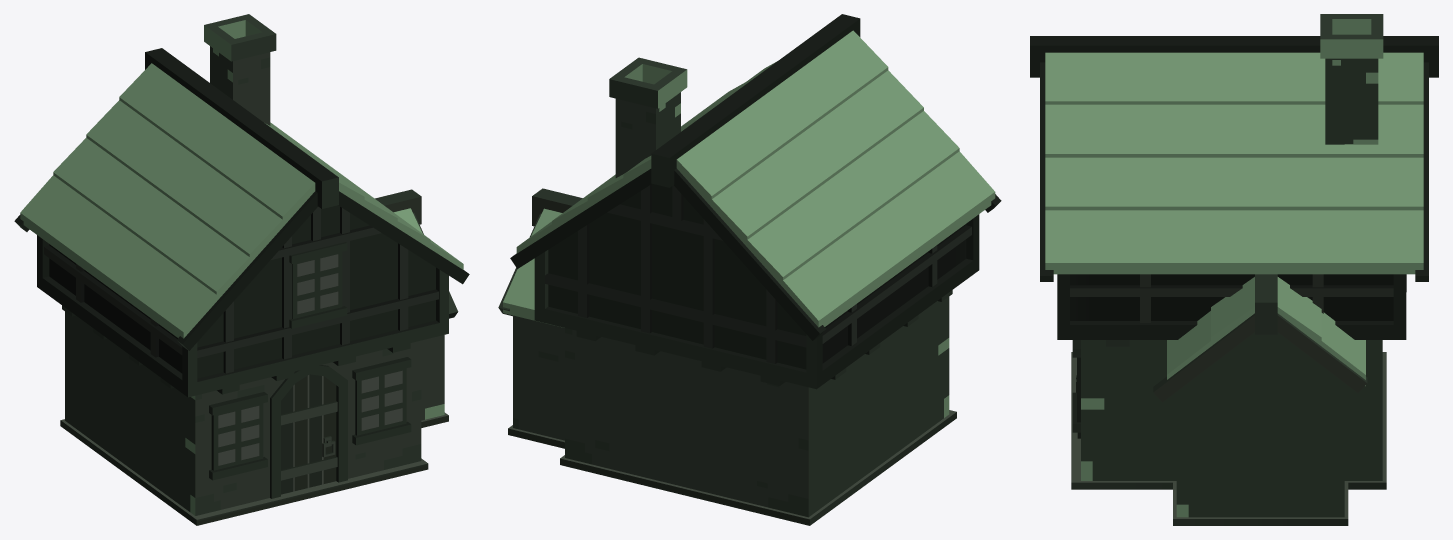
File: SF_Bld_House_Red_01.glb
3 views of the same model, side by side, from view 1: azimuth 30°, elevation 25°; view 2: azimuth 150°, elevation 25°; view 3: azimuth 270°, elevation 25° (orthographic). The views are drawn at different scales.
Visible parts, largest first — view 1: SF_Bld_House_Red_01; view 2: SF_Bld_House_Red_01; view 3: SF_Bld_House_Red_01.
Part boxes in pixels (x1,y1,x2,y2): SF_Bld_House_Red_01: [14, 14, 469, 525]; SF_Bld_House_Red_01: [498, 14, 1001, 525]; SF_Bld_House_Red_01: [1030, 14, 1438, 525].
Bounding box in the file's own units: 0.1151 × 0.1217 × 0.1061.
1 material, 1 textured.
